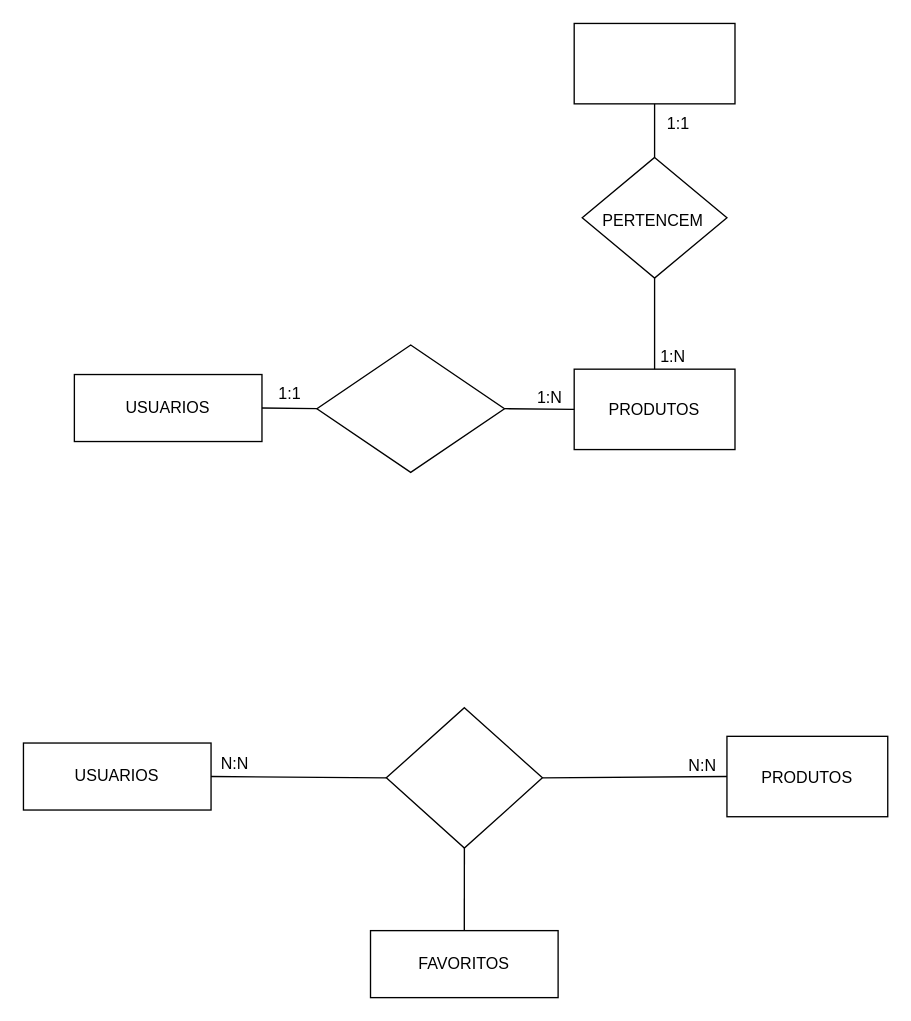
This 911x1021 diagram has some shape labels left out. Here are the shapes that lost their labels. From the top down, the centre of each, then its label:
At point 654,63: "CATEGORIAS".
At point 410,408: "CADASTRAM".
At point 463,777: "FAVORITAM".
